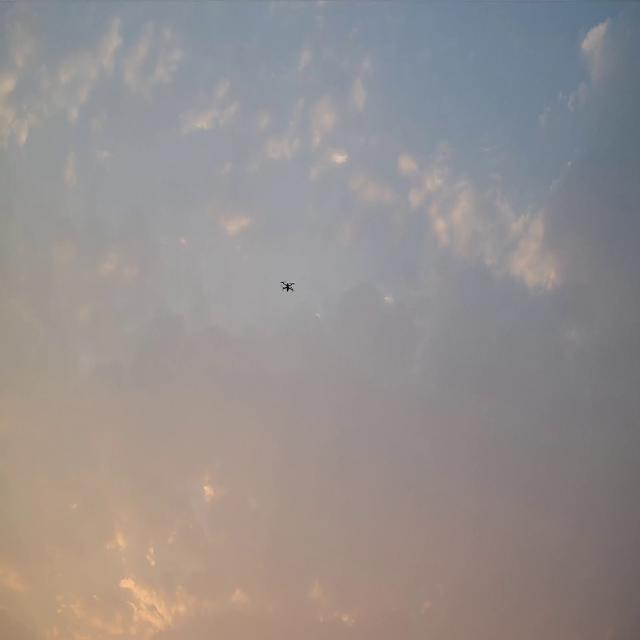drone: (280, 280, 295, 293)
